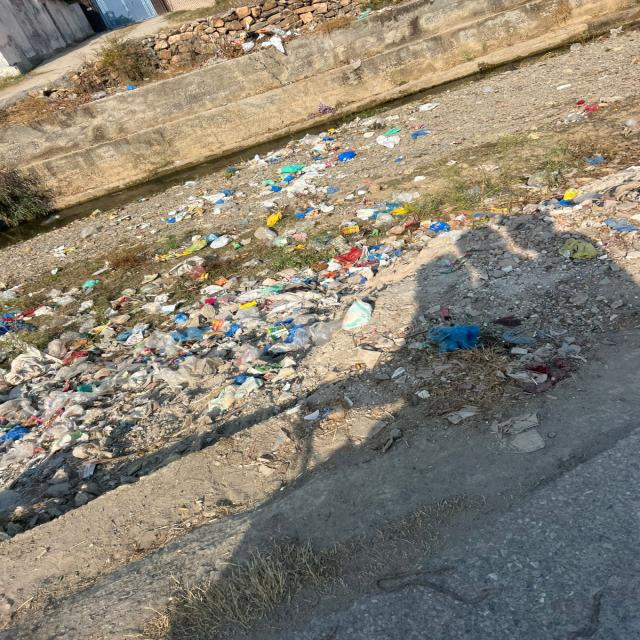garbage: (5, 228, 379, 407)
